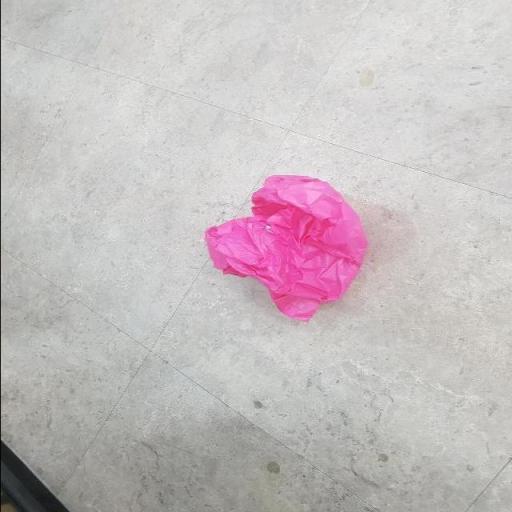plastic-bag: (203, 172, 375, 322)
